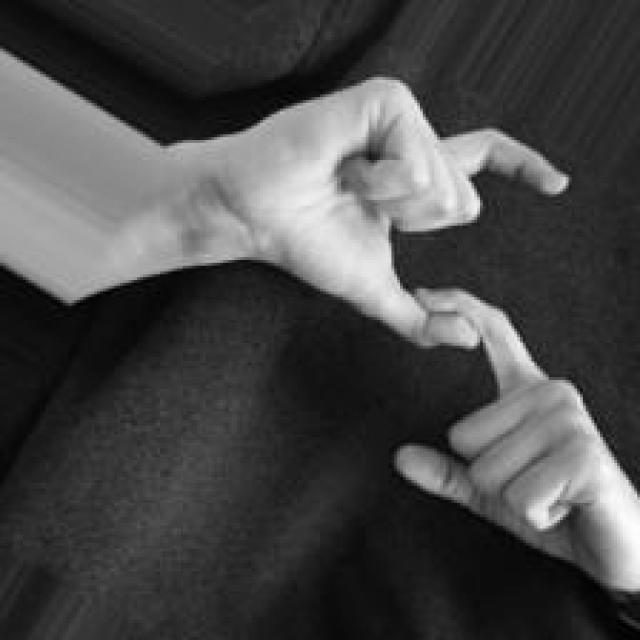S: (219, 68, 640, 596)
